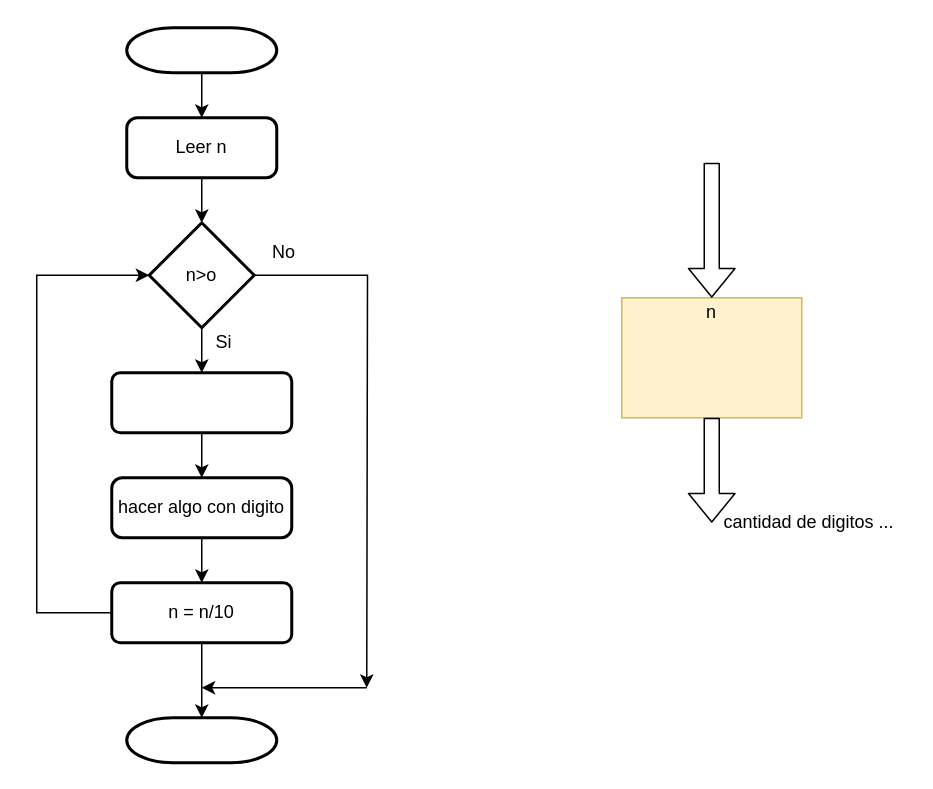
This 933x789 diagram has some shape labels left out. The centre of each missing label's shape, as x and y in pixels:
"digito = n%10" goes at [201,402].
"Fin" goes at [201,740].
"Inicio" goes at [201,50].
